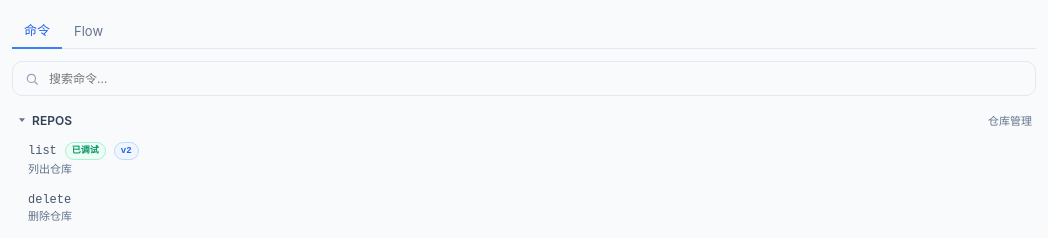
CommandTree 分组折叠/展开 › 点击分组标题折叠：命令项隐藏
Click the button with test id "group-header". click: click(52, 120)
box: left=12, top=112, right=1036, bottom=128
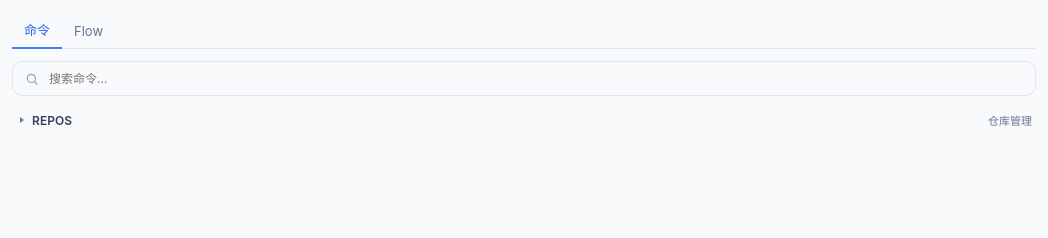
Expected: no buttons with test id "tree-item" are shown
